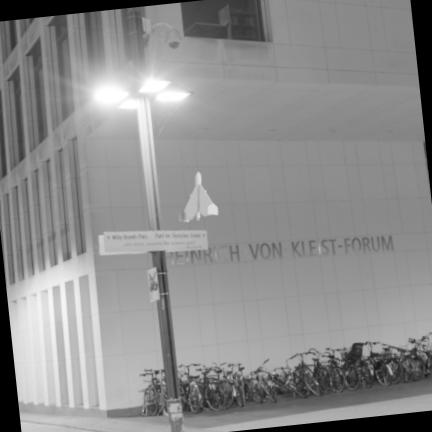Shahed: (179, 172, 217, 221)
